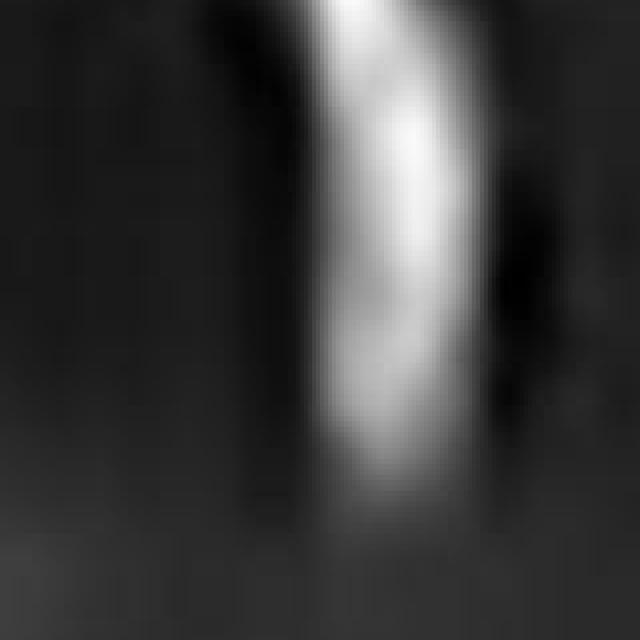person: (257, 1, 505, 540)
